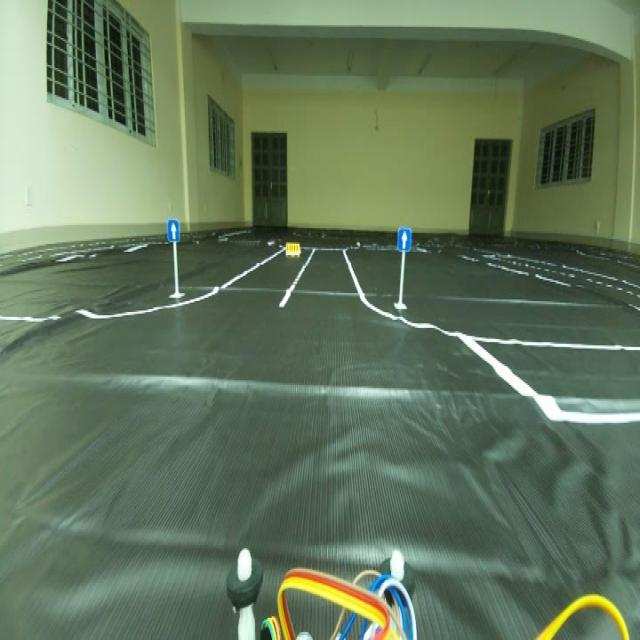onewayroad: (394, 228, 411, 260), (166, 216, 184, 242)
roadblock: (284, 238, 301, 259)
